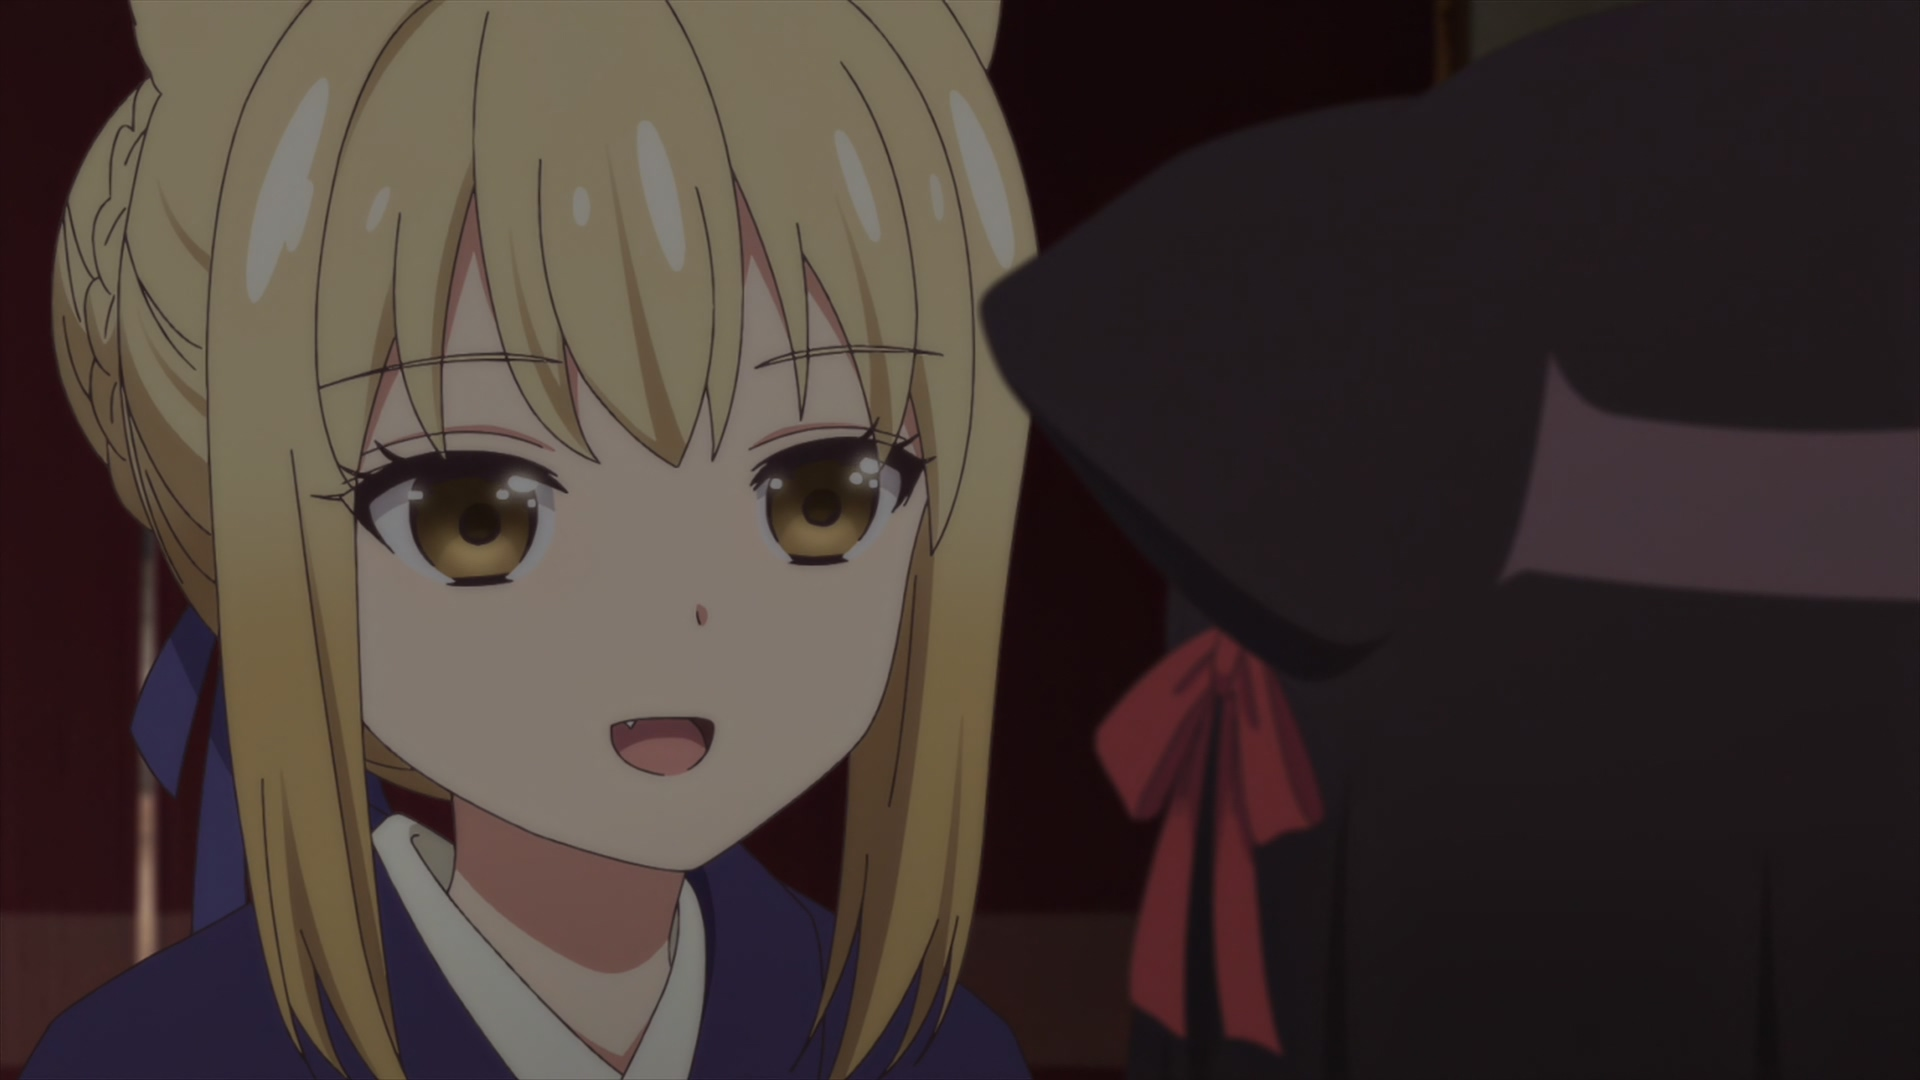桐: (1, 1, 1034, 1080)
樱: (978, 1, 1920, 1080)
